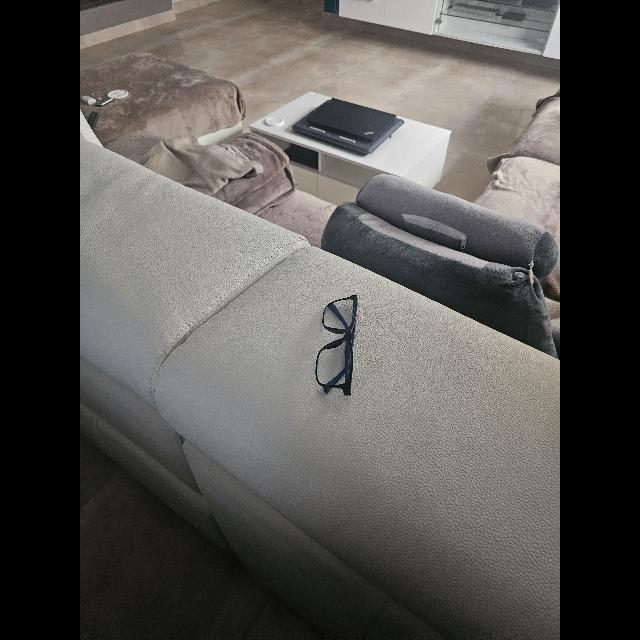glasses: (316, 295, 358, 395)
